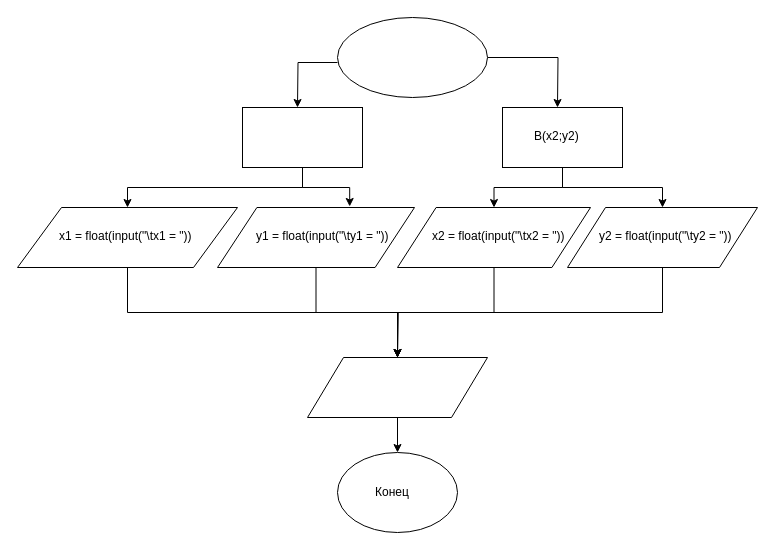
This 775x550 diagram has some shape labels left out. Each missing label, with the centre of its shape:
"A(x1;y1)" goes at [302,137].
"k = (y1 - y2) / (x1 - x2) b = y2 - k*x2" goes at [397,387].
"Начало" goes at [412,57].
